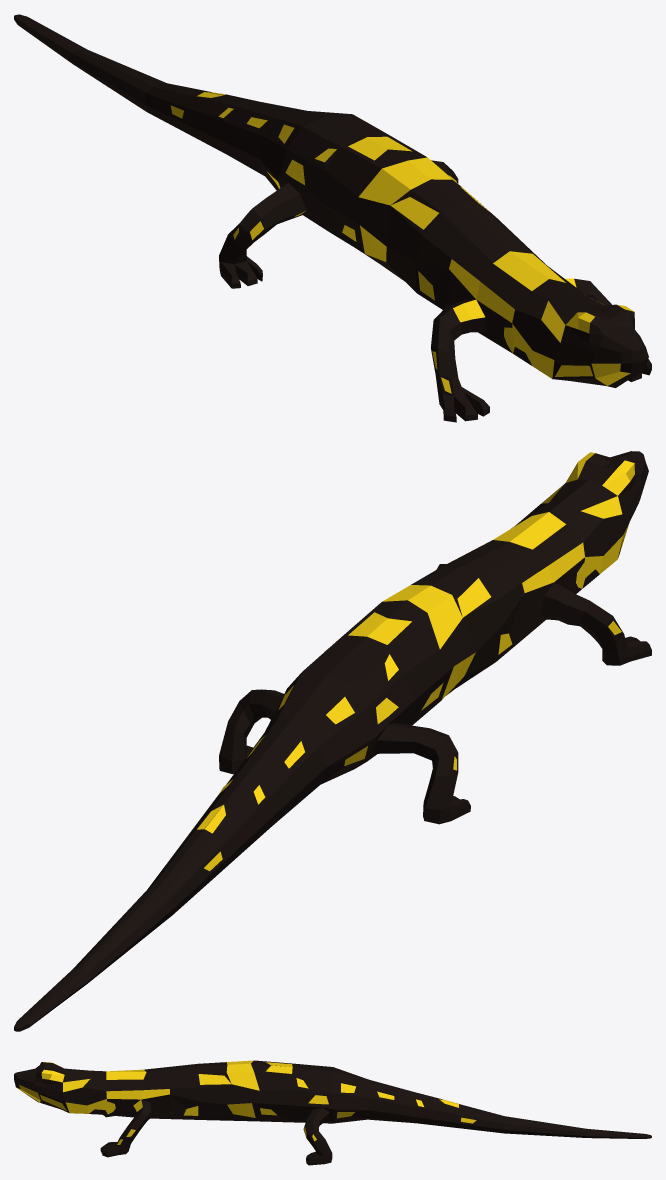
File: Lizard.glb
3 views of the same model, one above another, from view 1: azimuth 30°, elevation 25°; view 2: azimuth 150°, elevation 25°; view 3: azimuth 270°, elevation 25° (orthographic). The views are drawn at different scales.
Parts seen in each view (by area): view 1: 15lizardFinal; view 2: 15lizardFinal; view 3: 15lizardFinal.
Part boxes in pixels (left/top/right/bottom): 15lizardFinal: left=14, top=14, right=651, bottom=422; 15lizardFinal: left=14, top=451, right=651, bottom=1031; 15lizardFinal: left=14, top=1060, right=651, bottom=1165.
Size of the model in its own units: 0.2229 by 0.1284 by 1.
Materials: 1 (1 with a texture image).
